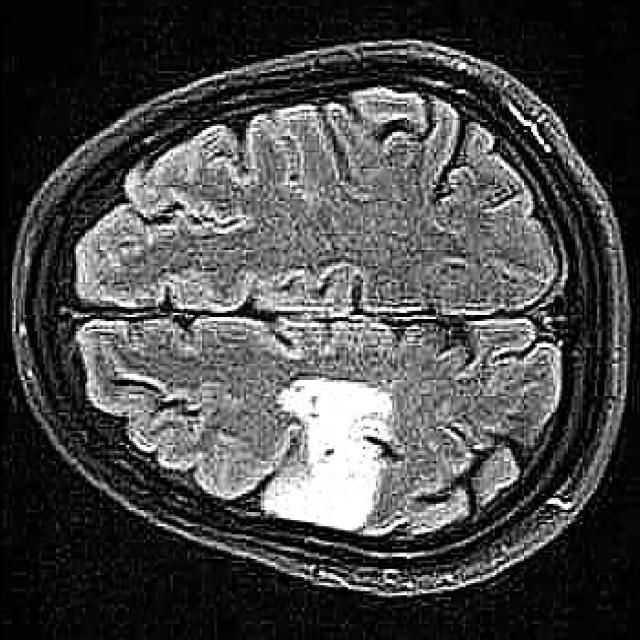tumor: (258, 376, 395, 532)
